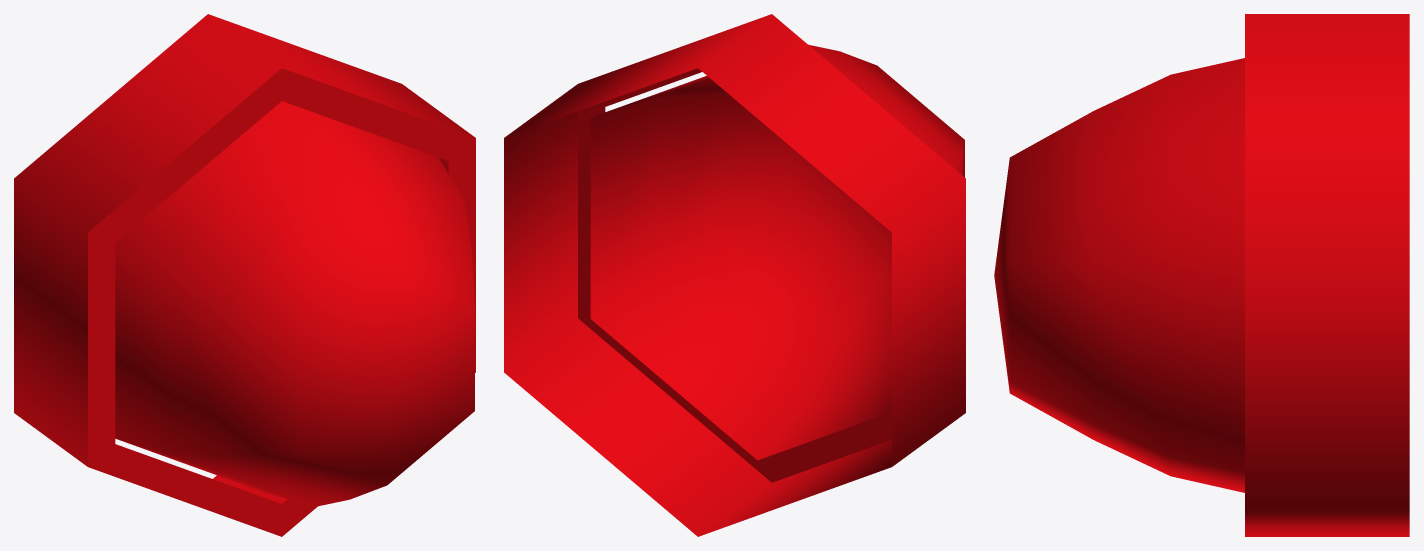
The model's file is LampadaVagaoFinal.fbx.
3 renders of one model, left to right at view 1: azimuth 30°, elevation 25°; view 2: azimuth 150°, elevation 25°; view 3: azimuth 270°, elevation 25°, orthographic. The views are drawn at different scales.
Parts seen in each view (by area): view 1: Botão.005, BaseBotão.004; view 2: BaseBotão.004, Botão.005; view 3: BaseBotão.004, Botão.005.
Boxes of the visible parts, x1,y1,x2,y2 form: Botão.005: (115, 101, 474, 506); BaseBotão.004: (14, 14, 475, 536); BaseBotão.004: (504, 14, 965, 536); Botão.005: (590, 44, 964, 460); BaseBotão.004: (1245, 14, 1409, 536); Botão.005: (994, 58, 1244, 492).
Size of the model in its own units: 430 by 497 by 358.
